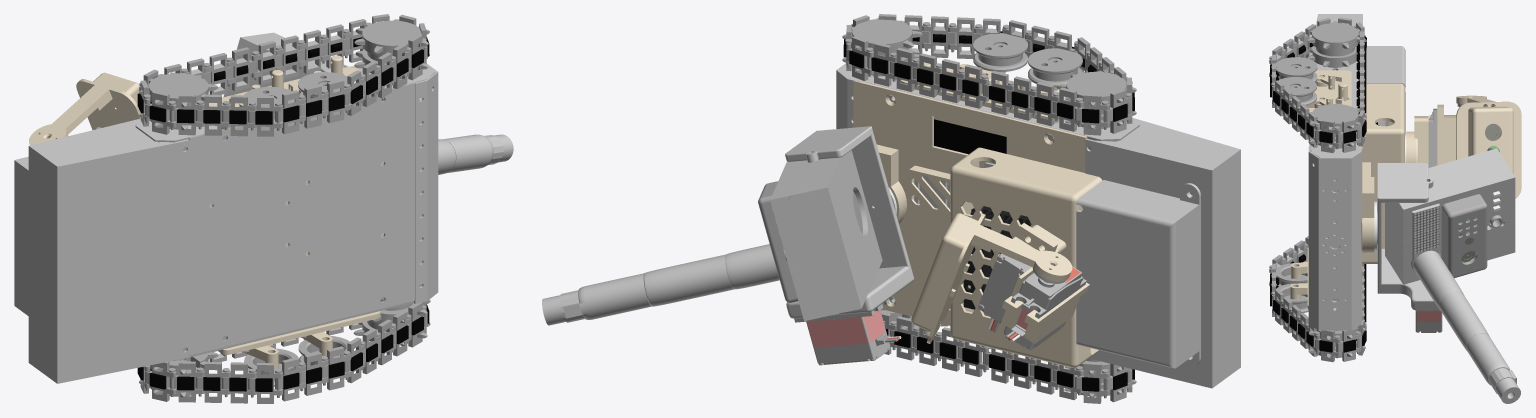
Rendered from modele_v1.glb.
3 renders of one model, left to right at view 1: azimuth 30°, elevation 25°; view 2: azimuth 150°, elevation 25°; view 3: azimuth 270°, elevation 25°, orthographic. The views are drawn at different scales.
Visible parts, largest first — view 1: Body1 (×39), Body40 (×4), canon, Body7, roue_tendeuse (×4), bras_tete_cam, plateforme_logi, Body3, side_d; view 2: Body1 (×25), Body7, coque_jetson, plaque_couvercle, canon, pas_impr (×3), roue_tendeuse (×2), Body40 (×2), Body2, bras_tete_cam, side_d, coque_camera_laser (+1 smaller); view 3: Body1 (×16), canon, coque_jetson, Body40 (×3), coque_camera_laser, side_d, roue_tendeuse (×4), plateforme_logi, Body7, plaque_couvercle, pas_impr (×2), Body3 (+3 smaller).
Part boxes in pixels (x1,y1,x2,y2): Body1 (×39): (28,19,438,403); Body40 (×4): (139,20,430,397); canon: (438,134,513,174); Body7: (14,157,28,315); roue_tendeuse (×4): (244,72,349,386); bras_tete_cam: (29,85,112,145); plateforme_logi: (76,79,140,129); Body3: (209,55,370,129); side_d: (243,34,330,74); Body1 (×25): (770,16,1240,403); Body7: (1076,180,1200,368); coque_jetson: (950,147,1102,367); plaque_couvercle: (853,81,1087,325); canon: (542,244,779,325); pas_impr (×3): (794,237,1086,365); roue_tendeuse (×2): (973,33,1082,87); Body40 (×2): (842,18,1136,128); Body2: (909,165,950,255); bras_tete_cam: (971,225,1072,281); side_d: (771,157,842,200); coque_camera_laser: (758,181,798,302); Body1 (×16): (1308,14,1515,362); canon: (1413,250,1520,403); coque_jetson: (1362,83,1404,263); Body40 (×3): (1304,23,1366,358); coque_camera_laser: (1441,194,1487,278); side_d: (1397,149,1511,211); roue_tendeuse (×4): (1276,57,1317,313); plateforme_logi: (1456,101,1521,198); Body7: (1365,35,1405,134); plaque_couvercle: (1359,146,1374,321); pas_impr (×2): (1415,108,1442,332); Body3: (1308,70,1351,112).
Bounding box in the file's own units: 0.3874 × 0.1973 × 0.1884.
